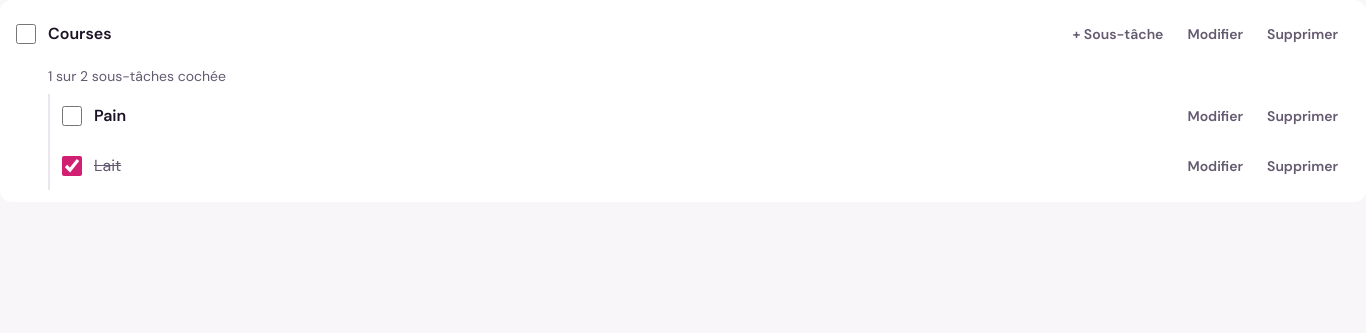
Scenario: TaskRow avec sous-tâches › nomme les sous-tâches dans la question de suppression
This screenshot has width=1366, height=333.
Step 1. Click the button "Supprimer" in the row of "Courses" → {"x": 1302, "y": 34}, box [1255,12,1350,56]
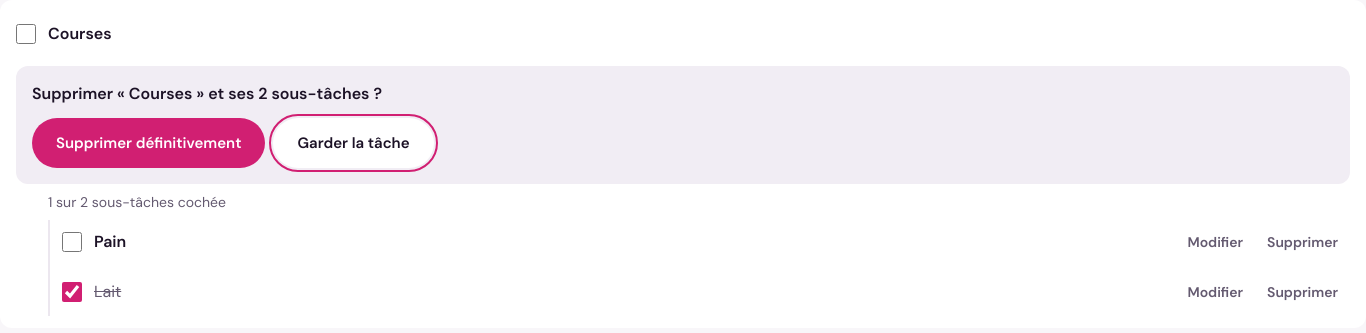
Now the text "Supprimer « Courses » et ses 2 sous-tâches ?" is shown, box [32,83,382,104]
